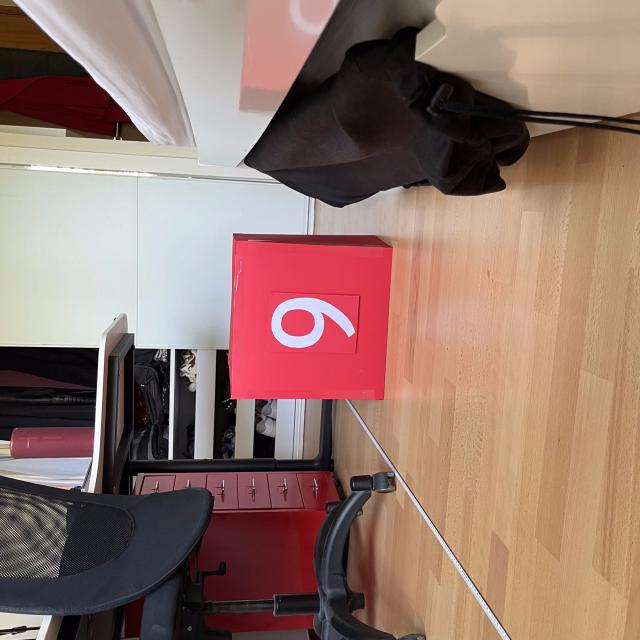box: (224, 228, 397, 402)
